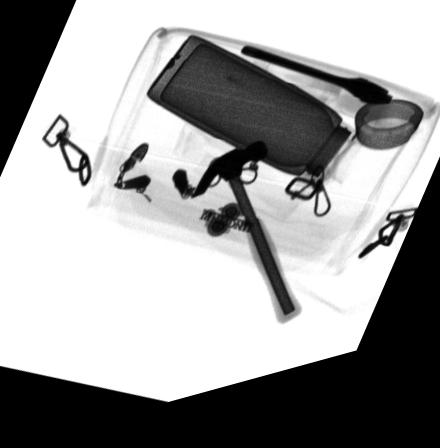Hammer: (187, 151, 307, 341)
Wrench: (239, 55, 395, 125)
